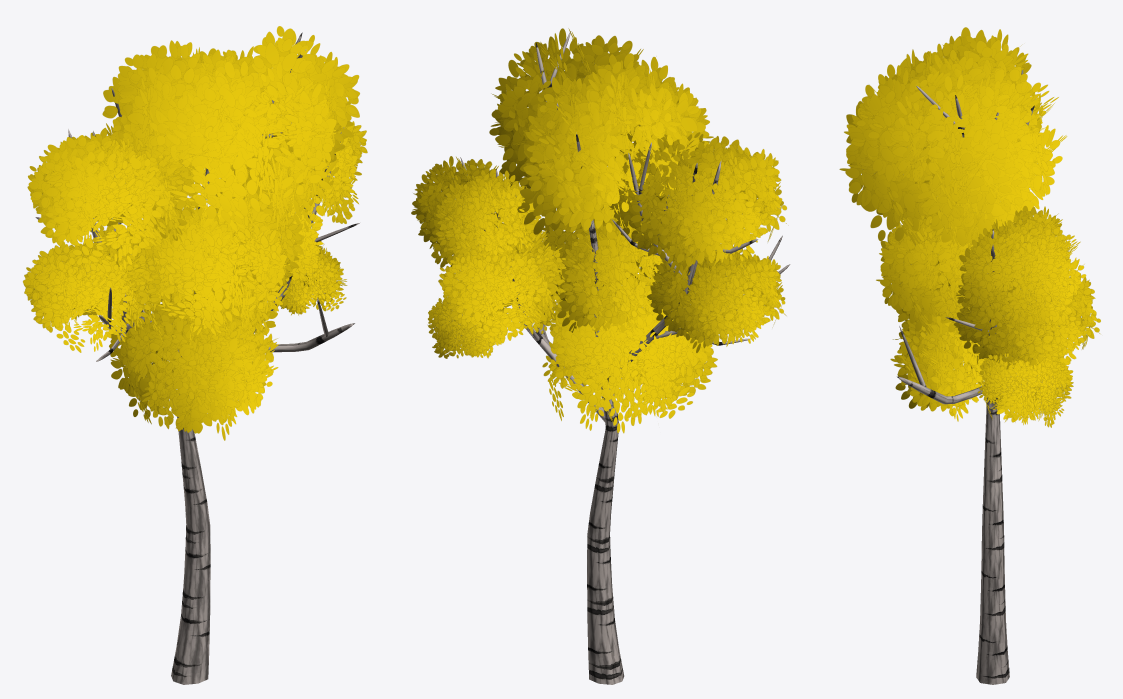
The model's file is BirchTree_3.gltf.
3 renders of one model, left to right at view 1: azimuth 30°, elevation 25°; view 2: azimuth 150°, elevation 25°; view 3: azimuth 270°, elevation 25°, orthographic. The views are drawn at different scales.
Visible parts, largest first — view 1: BirchTree_3; view 2: BirchTree_3; view 3: BirchTree_3.
Boxes of the visible parts, x1,y1,x2,y2 form: BirchTree_3: (23,26,367,684); BirchTree_3: (411,28,790,684); BirchTree_3: (839,27,1100,684).
Bounding box in the file's own units: 3.43 × 5.75 × 2.27.
2 materials, 2 textured.
